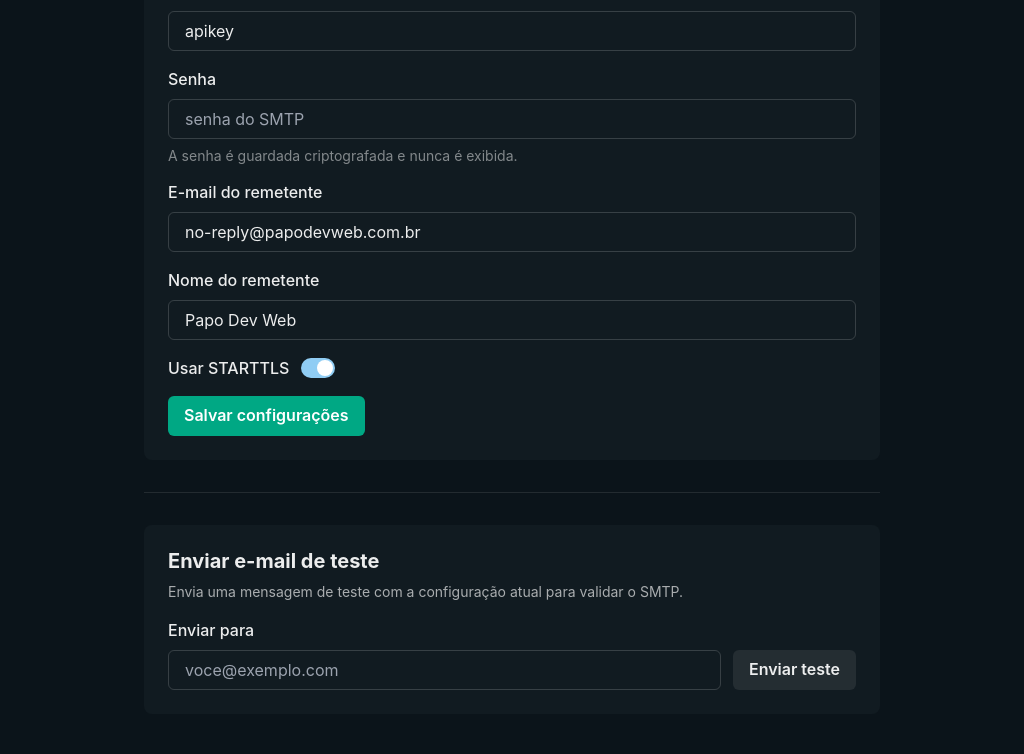
AdminSettingsPage › salva omitindo a senha quando o campo está vazio
(page scrolled)
Click the button "Salvar configurações": (266, 416) 168,396 -> 365,436
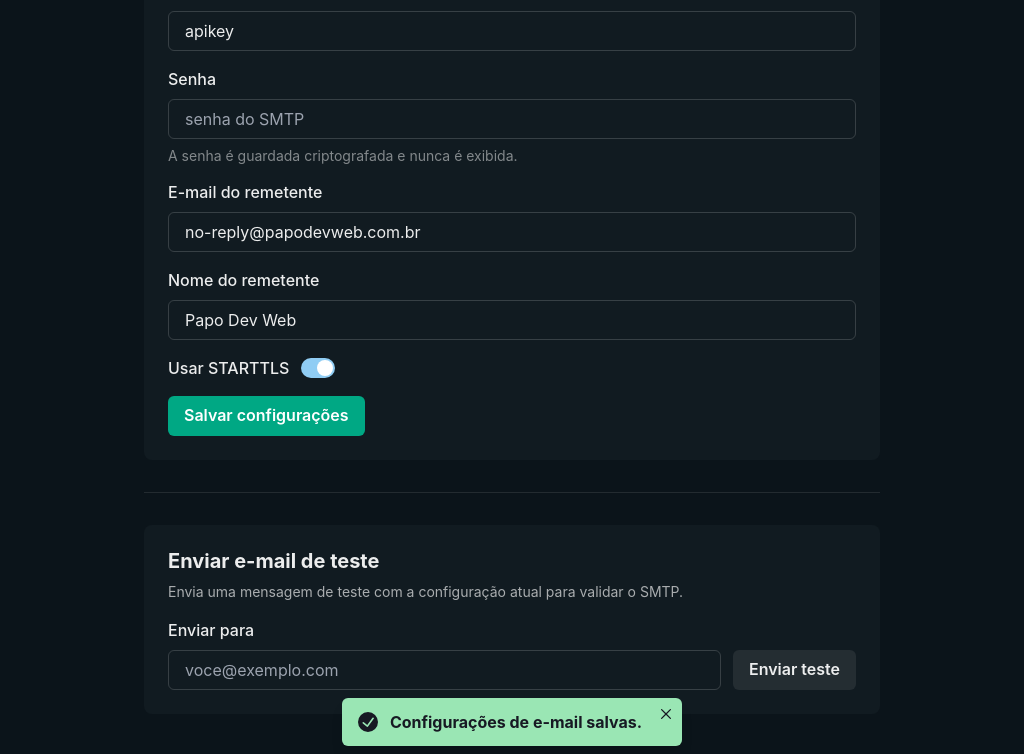
Expected: the text "Configurações de e-mail salvas." is shown, 390,710 -> 642,734
